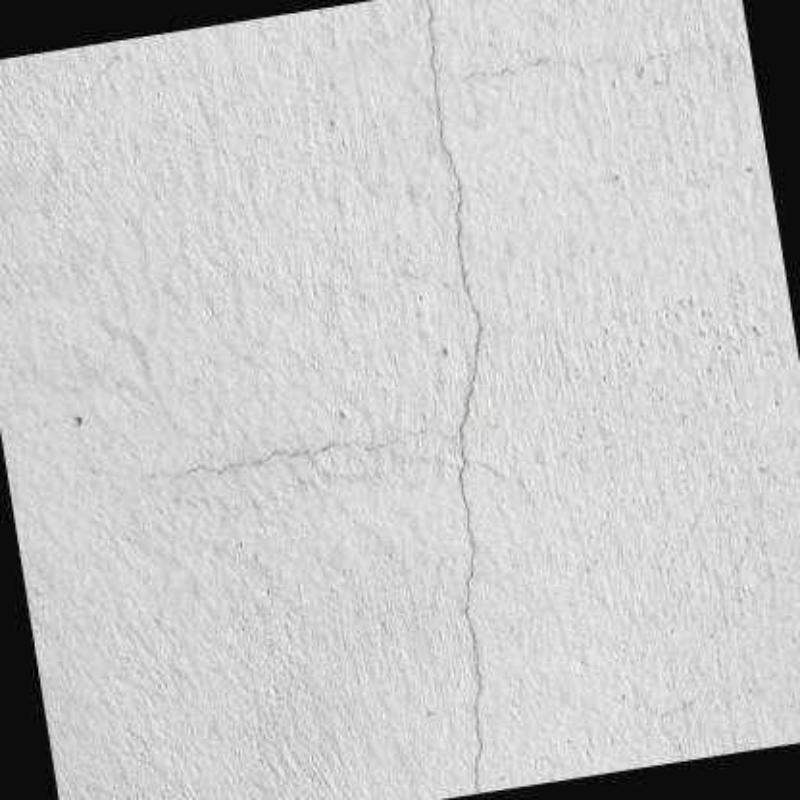pothole: (426, 0, 481, 793), (181, 435, 398, 477), (460, 58, 556, 83)
